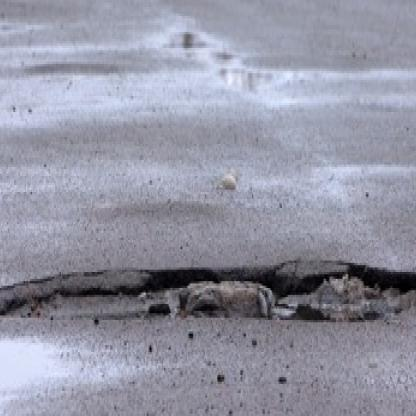pothole: (0, 258, 416, 327)
